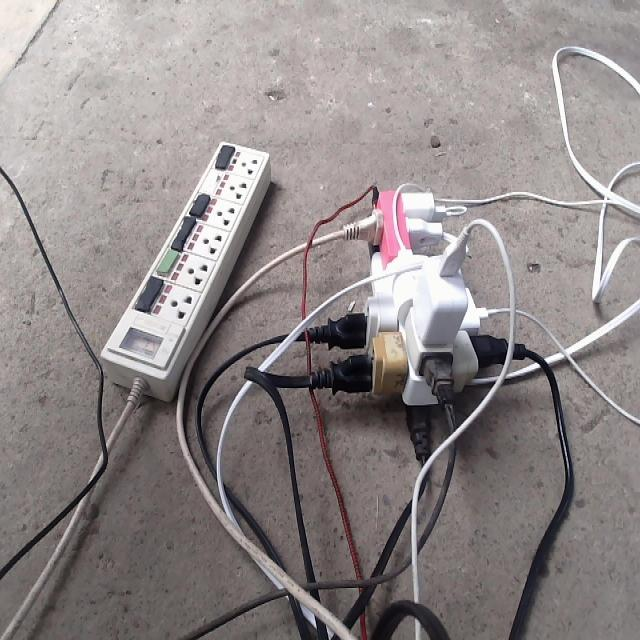-: (308, 177, 515, 463)
